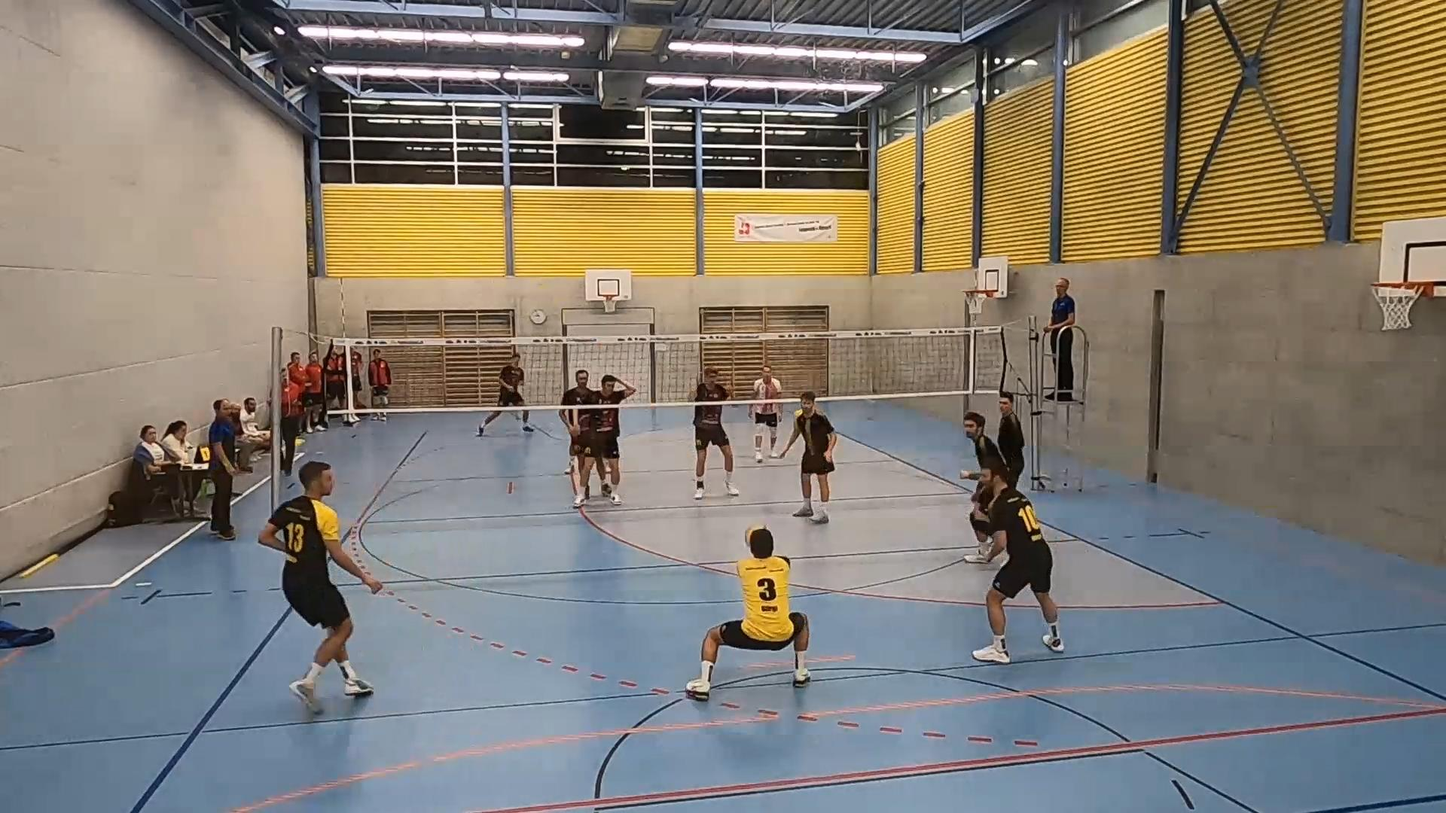ricezione: (690, 524, 814, 701)
